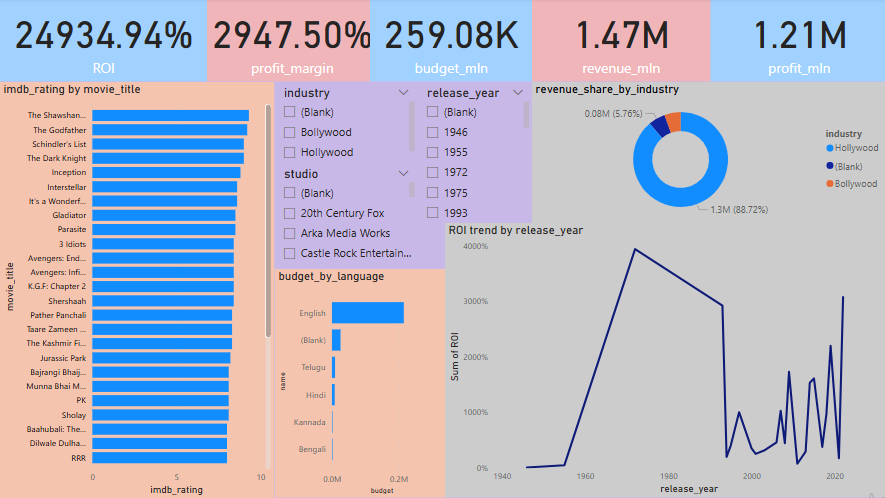

The dashboard page shown, as its layout file describes it:
{"tool":"powerbi","page":{"name":"Page 1","canvas":[1280,720],"ordinal":0},"visuals":[{"type":"card","fields":{"Values":["Sum(moviesdb financials.ROI)"]},"box":[0,0,298.2,120.3],"z":0},{"type":"card","fields":{"Values":["Sum(moviesdb financials.profit_margin)"]},"box":[298.2,0,245.5,120.3],"z":1000},{"type":"card","fields":{"Values":["Sum(moviesdb financials.budget_mln_inr)"]},"box":[532.1,0,233.9,120.3],"z":2000},{"type":"card","fields":{"Values":["Sum(moviesdb financials.profit)"]},"box":[1023,0,257,120.3],"z":4000},{"type":"barChart","fields":{"Category":["moviesdb movies.title"],"Y":["Sum(moviesdb movies.imdb_rating)"]},"box":[0,120.3,395.4,599.6],"z":5000},{"type":"slicer","fields":{"Values":["moviesdb movies.industry"]},"box":[395.4,120.3,205.9,117],"z":6000},{"type":"slicer","fields":{"Values":["moviesdb movies.studio"]},"box":[395.4,237.2,205.9,153.2],"z":7000},{"type":"slicer","fields":{"Values":["moviesdb movies.release_year"]},"box":[601.3,120.3,164.7,202.6],"z":8000},{"type":"donutChart","title":"revenue_share_by_industry","fields":{"Category":["moviesdb movies.industry"],"Y":["Sum(moviesdb financials.revenue_mln_inr)"]},"box":[766,120.3,514,204.3],"z":9000},{"type":"lineChart","title":"ROI trend by release_year","fields":{"Y":["Sum(moviesdb financials.ROI)"],"Category":["moviesdb movies.release_year"]},"box":[640.8,324.5,639.2,395.4],"z":10000},{"type":"barChart","title":"budget_by_language","fields":{"Y":["Sum(moviesdb financials.budget_mln_inr)"],"Category":["moviesdb languages.name"]},"box":[395.4,390.4,245.5,329.5],"z":11000},{"type":"card","fields":{"Values":["Sum(moviesdb financials.revenue_mln_inr)"]},"box":[766,0,257,120.3],"z":11001}]}

Visuals, with their boxes in screenshot pixels (x1, y1, x2, y2), scaled from the page's 1280x720 canvas onto the 885x498 screenshot:
card - Sum(moviesdb financials.ROI): crop(0, 0, 206, 83)
card - Sum(moviesdb financials.profit_margin): crop(206, 0, 376, 83)
card - Sum(moviesdb financials.budget_mln_inr): crop(368, 0, 530, 83)
card - Sum(moviesdb financials.profit): crop(707, 0, 884, 83)
barChart - moviesdb movies.title x Sum(moviesdb movies.imdb_rating): crop(0, 83, 273, 497)
slicer - moviesdb movies.industry: crop(273, 83, 416, 164)
slicer - moviesdb movies.studio: crop(273, 164, 416, 270)
slicer - moviesdb movies.release_year: crop(416, 83, 530, 223)
"revenue_share_by_industry" donutChart: crop(530, 83, 884, 225)
"ROI trend by release_year" lineChart: crop(443, 224, 884, 497)
"budget_by_language" barChart: crop(273, 270, 443, 497)
card - Sum(moviesdb financials.revenue_mln_inr): crop(530, 0, 707, 83)
